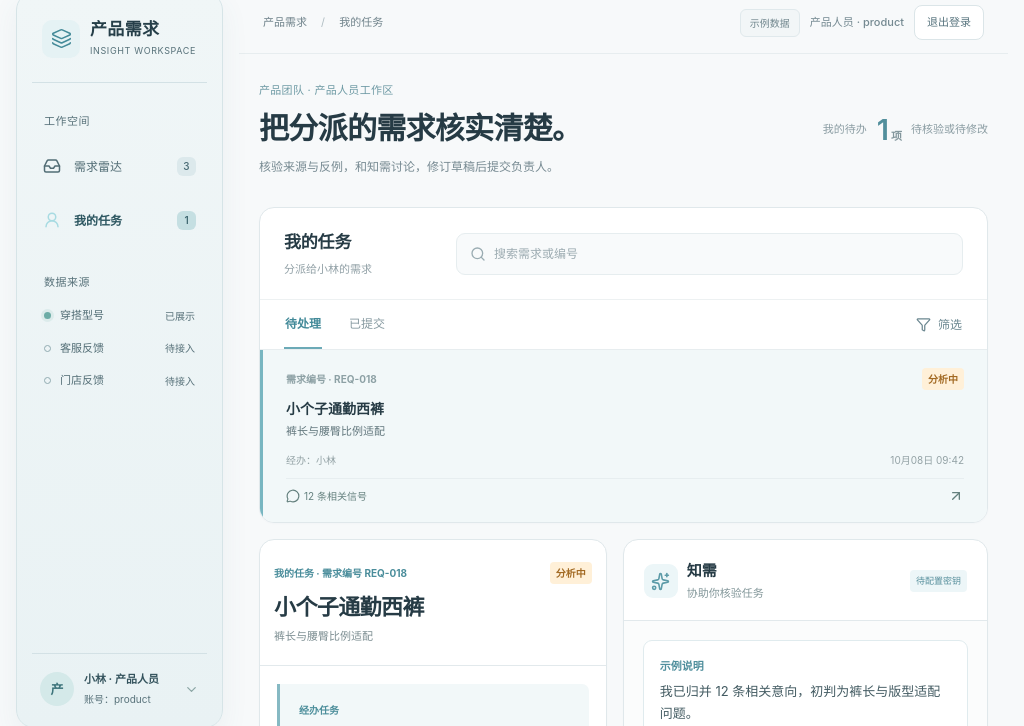
Test: workbench role navigation › keeps the product staff in their assigned work area
Expected: the button "我的任务 1" is shown, x1=32 y1=196 x2=207 y2=244
Click the button "需求雷达 3": point(120, 166) x1=32 y1=142 x2=207 y2=190
(page scrolled)
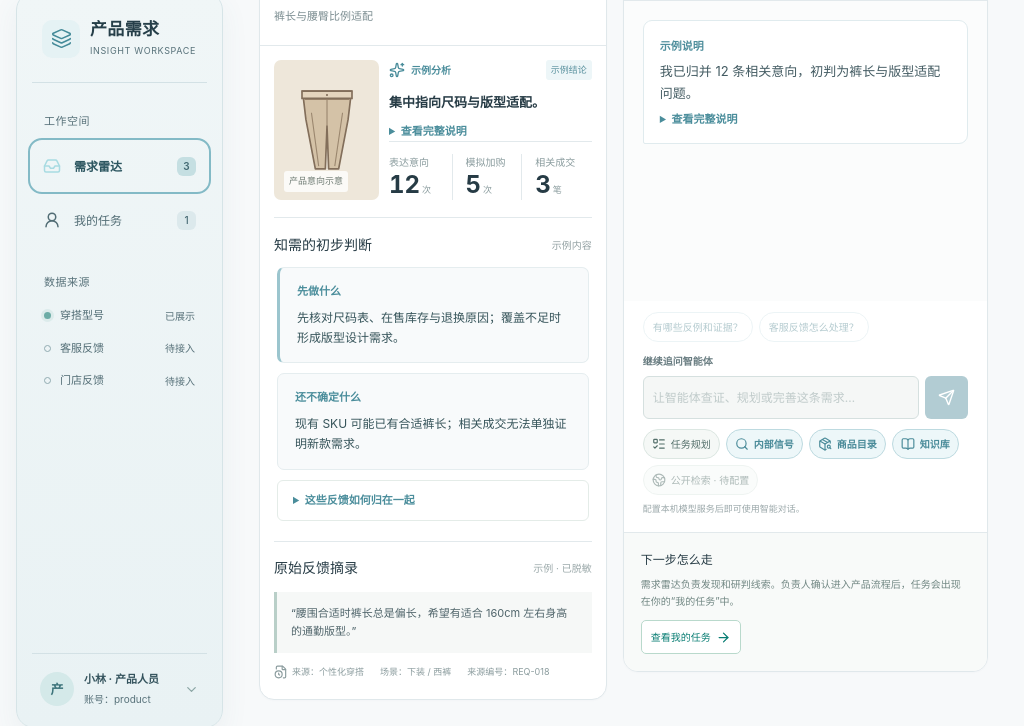
Expected: the button "查看我的任务" is shown, x1=641 y1=620 x2=741 y2=654
